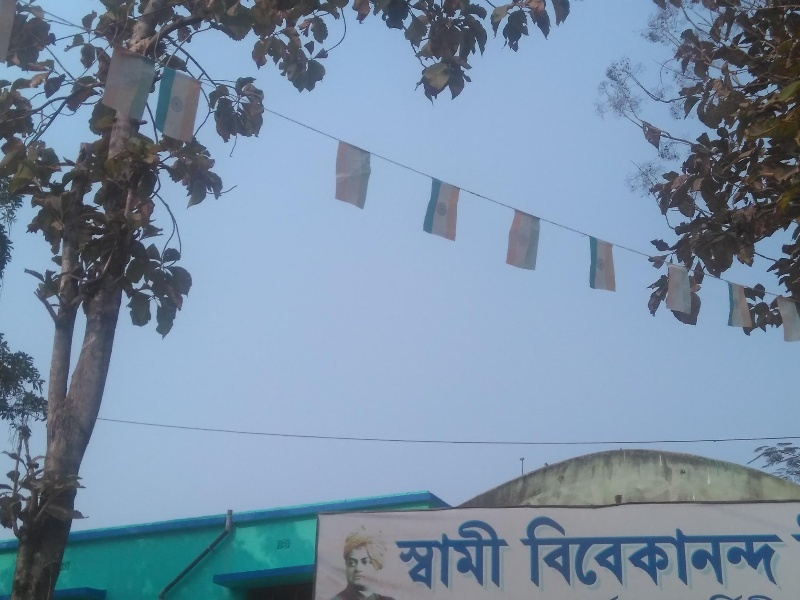text: (401, 516, 416, 591), (417, 516, 432, 591), (433, 516, 448, 591), (449, 516, 464, 591), (465, 516, 480, 591), (481, 516, 496, 591), (497, 516, 512, 591), (529, 515, 544, 589), (545, 515, 560, 589), (561, 515, 576, 589), (577, 515, 592, 589), (593, 515, 608, 589), (609, 515, 624, 589), (625, 515, 640, 589), (641, 515, 656, 589), (657, 515, 672, 589), (673, 515, 688, 589), (689, 515, 704, 589), (705, 515, 720, 589), (721, 515, 736, 589), (737, 515, 752, 589), (753, 515, 768, 589), (769, 515, 784, 589), (519, 515, 528, 589), (545, 465, 560, 506), (561, 465, 576, 506), (577, 465, 592, 506), (593, 465, 608, 506), (609, 465, 624, 506), (625, 465, 640, 506), (641, 465, 656, 506), (657, 465, 672, 506), (673, 465, 688, 506), (689, 465, 704, 506), (705, 465, 720, 506), (721, 465, 736, 506), (737, 465, 752, 506), (753, 465, 768, 506), (769, 465, 784, 506), (785, 465, 795, 506), (788, 511, 800, 545), (395, 516, 400, 591), (538, 465, 544, 506), (721, 593, 736, 600), (737, 593, 752, 600), (753, 593, 768, 600), (785, 515, 786, 589), (711, 593, 720, 600), (769, 593, 777, 600), (609, 595, 623, 599)
